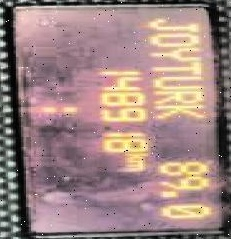-: (155, 189, 178, 196)
0: (158, 203, 209, 218)
1: (99, 129, 142, 136), (97, 68, 140, 75)
4: (97, 75, 140, 90)
8: (155, 159, 206, 174), (99, 137, 145, 152), (97, 90, 142, 105)
9: (155, 174, 208, 189), (96, 105, 145, 120)
X: (147, 59, 201, 74), (145, 17, 198, 32), (150, 103, 203, 118), (150, 74, 201, 89), (148, 45, 199, 60), (150, 88, 201, 103), (145, 32, 198, 46), (38, 104, 76, 111), (122, 158, 142, 170), (122, 152, 147, 159)
